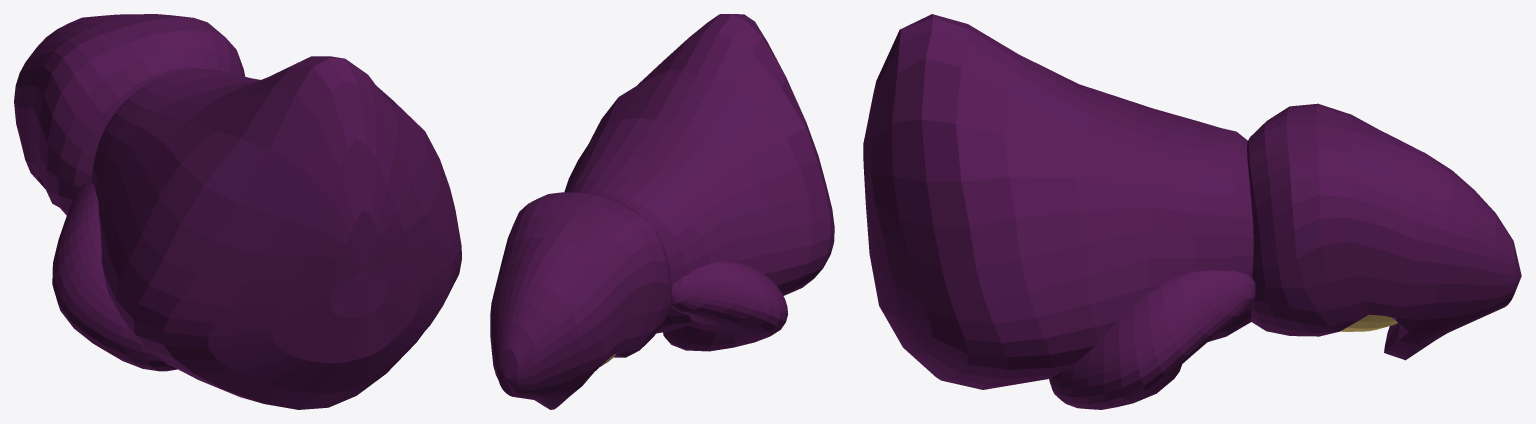
File: vllager.fbx
3 renders of one model, left to right at view 1: azimuth 30°, elevation 25°; view 2: azimuth 150°, elevation 25°; view 3: azimuth 270°, elevation 25°, orthographic. The views are drawn at different scales.
Parts seen in each view (by area): view 1: body; view 2: body; view 3: body, face.
Boxes of the visible parts, x1,y1,x2,y2 form: body: (14, 14, 461, 409); body: (490, 14, 834, 409); body: (863, 14, 1521, 409); face: (1340, 314, 1397, 331).
Bounding box in the file's own units: 263 × 270 × 451.
